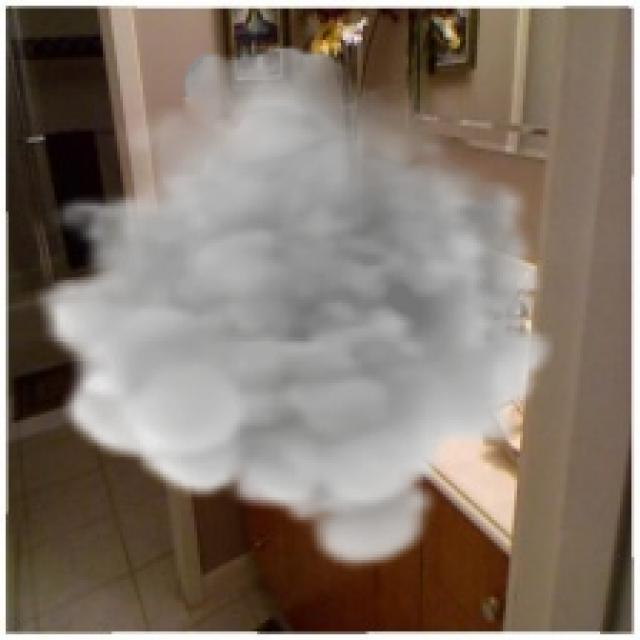smoke: (34, 43, 554, 574)
